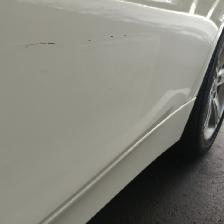scrach: (12, 15, 154, 65)
